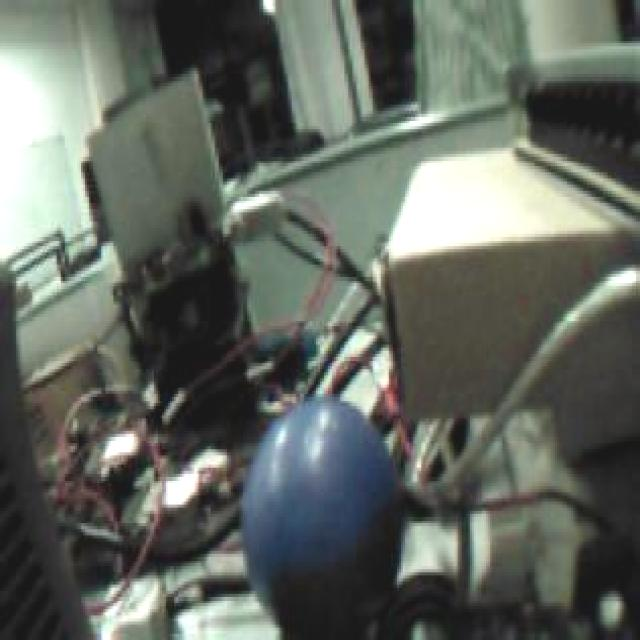BallPurple: (242, 394, 399, 624)
